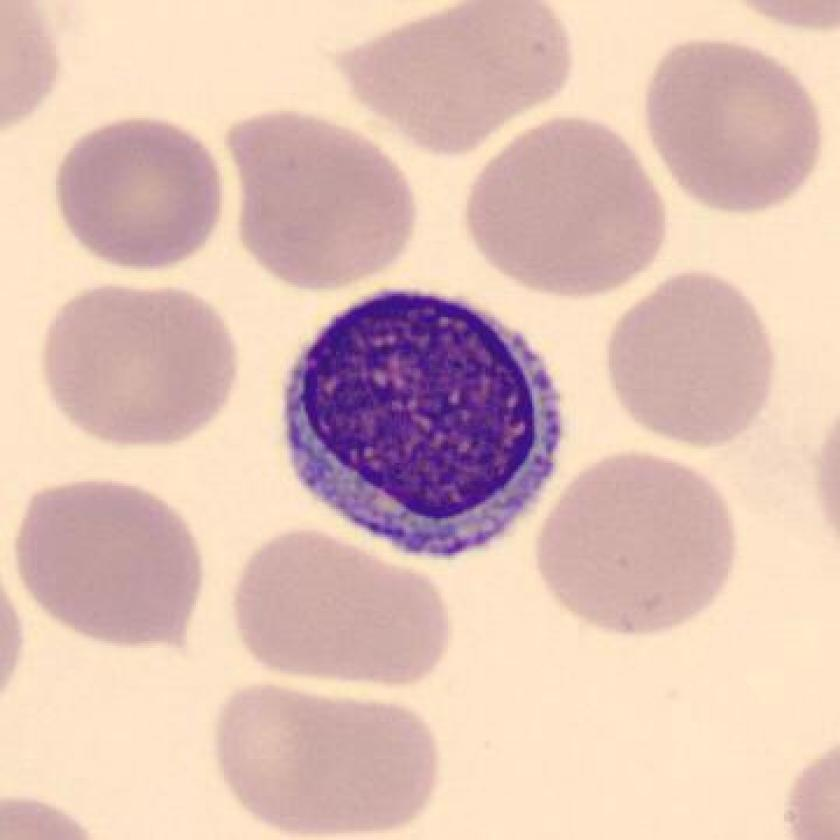lymphocyte: (267, 277, 580, 578)
